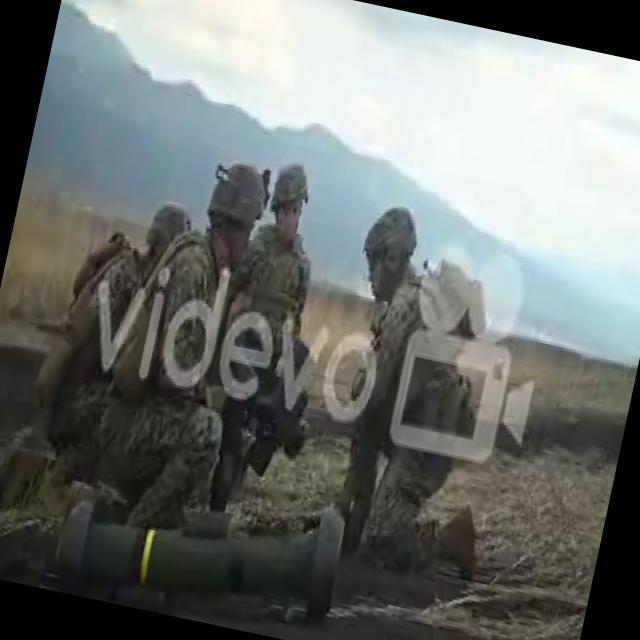rocket: (48, 451, 346, 624)
